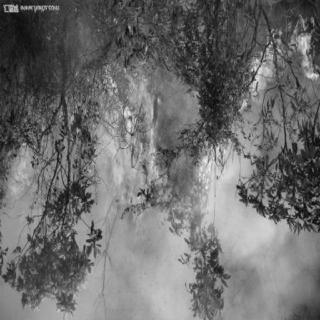Fire: (13, 9, 165, 235), (216, 5, 316, 164)
